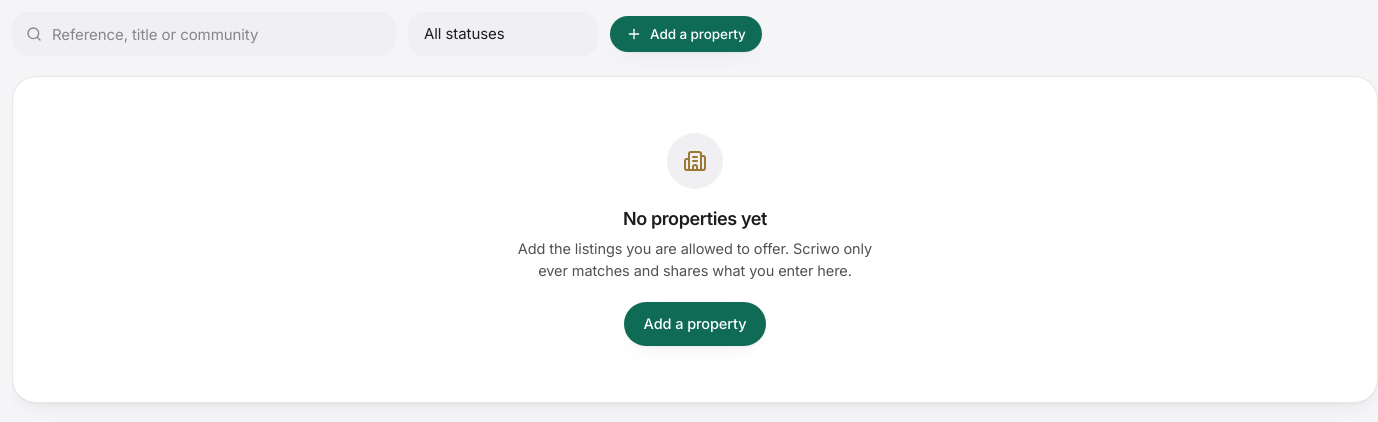
Scenario: the property inventory › an empty inventory explains what to do, and a search with no result says so
The image size is (1378, 422).
Expected: the heading "No properties yet" is shown, left=623, top=208, right=767, bottom=229
Expected: the text "Scriwo only ever matches and shares what you enter here" is shown, left=518, top=240, right=872, bottom=279
Type "zzz" into the field named "Search properties".
click(204, 34); type("zzz")  # box left=12, top=12, right=396, bottom=56
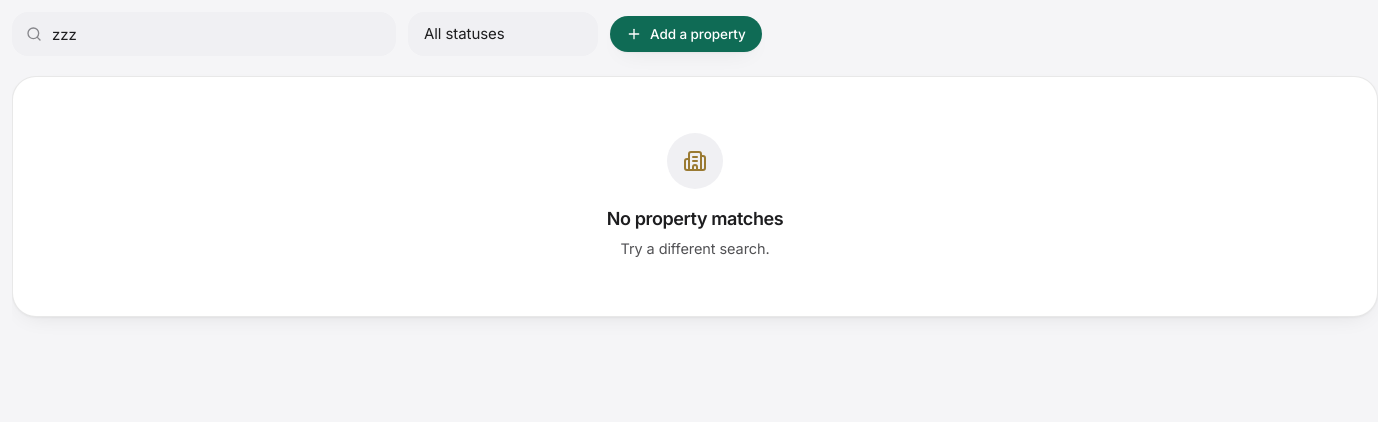
Expected: the heading "No property matches" is shown, left=607, top=208, right=783, bottom=229
